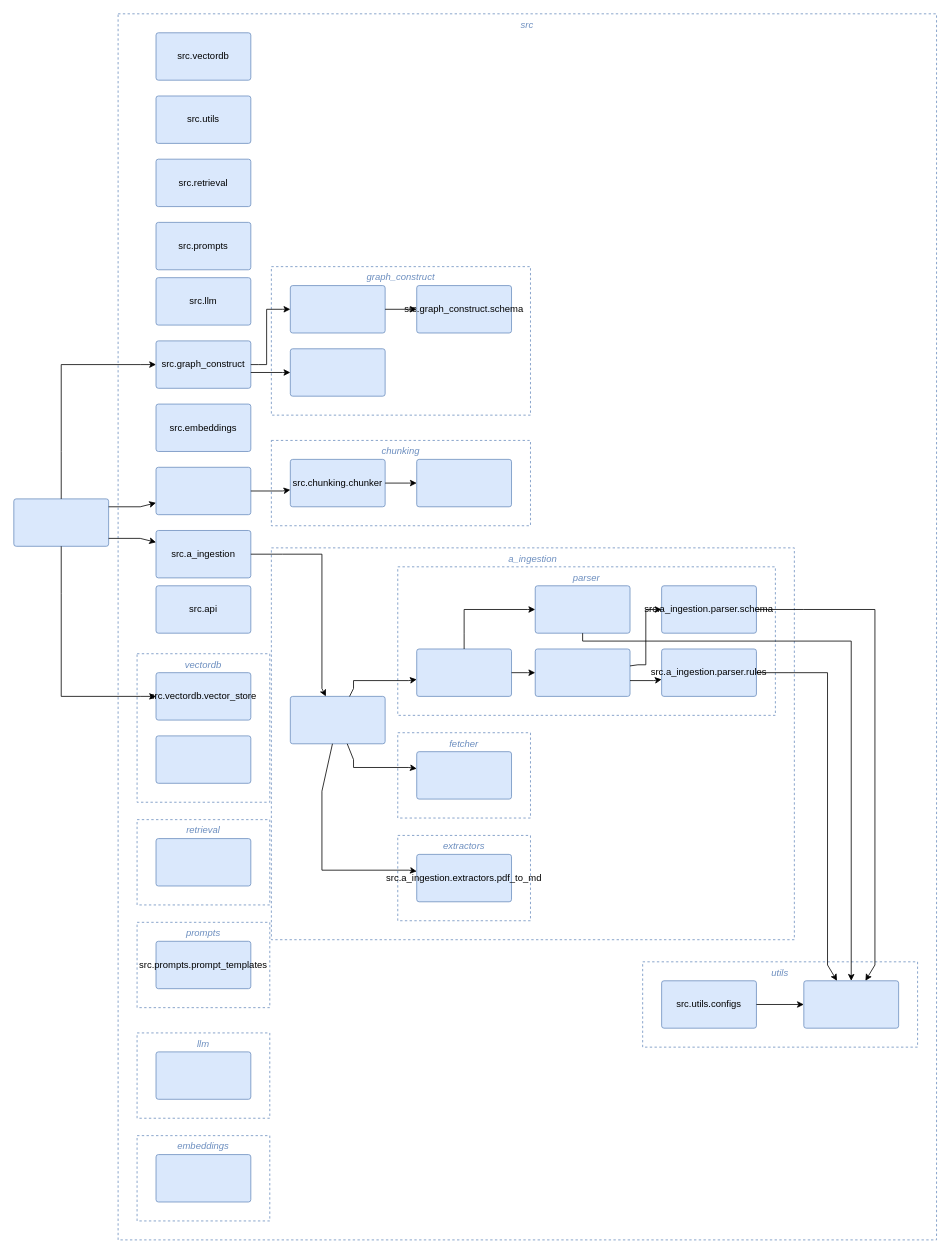
The diagram is 950 pixels wide and 1254 high, and some of its shapes have lost their labels. Each missing label, with the box of its shape:
main: (13, 498, 109, 546)
src.a_ingestion.fetcher.pdf_path: (416, 751, 512, 799)
src.a_ingestion.ingestion: (290, 696, 385, 744)
src.a_ingestion.parser.md_parser: (416, 648, 512, 696)
src.a_ingestion.parser.relations: (534, 585, 630, 633)
src.a_ingestion.parser.tree_builder: (534, 648, 630, 696)
src.chunking: (155, 466, 251, 515)
src.chunking.legal_structure: (416, 459, 512, 507)
src.embeddings.embedder: (155, 1154, 251, 1202)
src.graph_construct.buildGraph: (290, 348, 385, 396)
src.graph_construct.extractor: (290, 285, 385, 333)
src.llm.llm_client: (155, 1051, 251, 1099)
src.retrieval.retriever: (155, 838, 251, 886)
src.utils.utils: (803, 980, 899, 1028)
src.vectordb.store: (155, 735, 251, 783)
